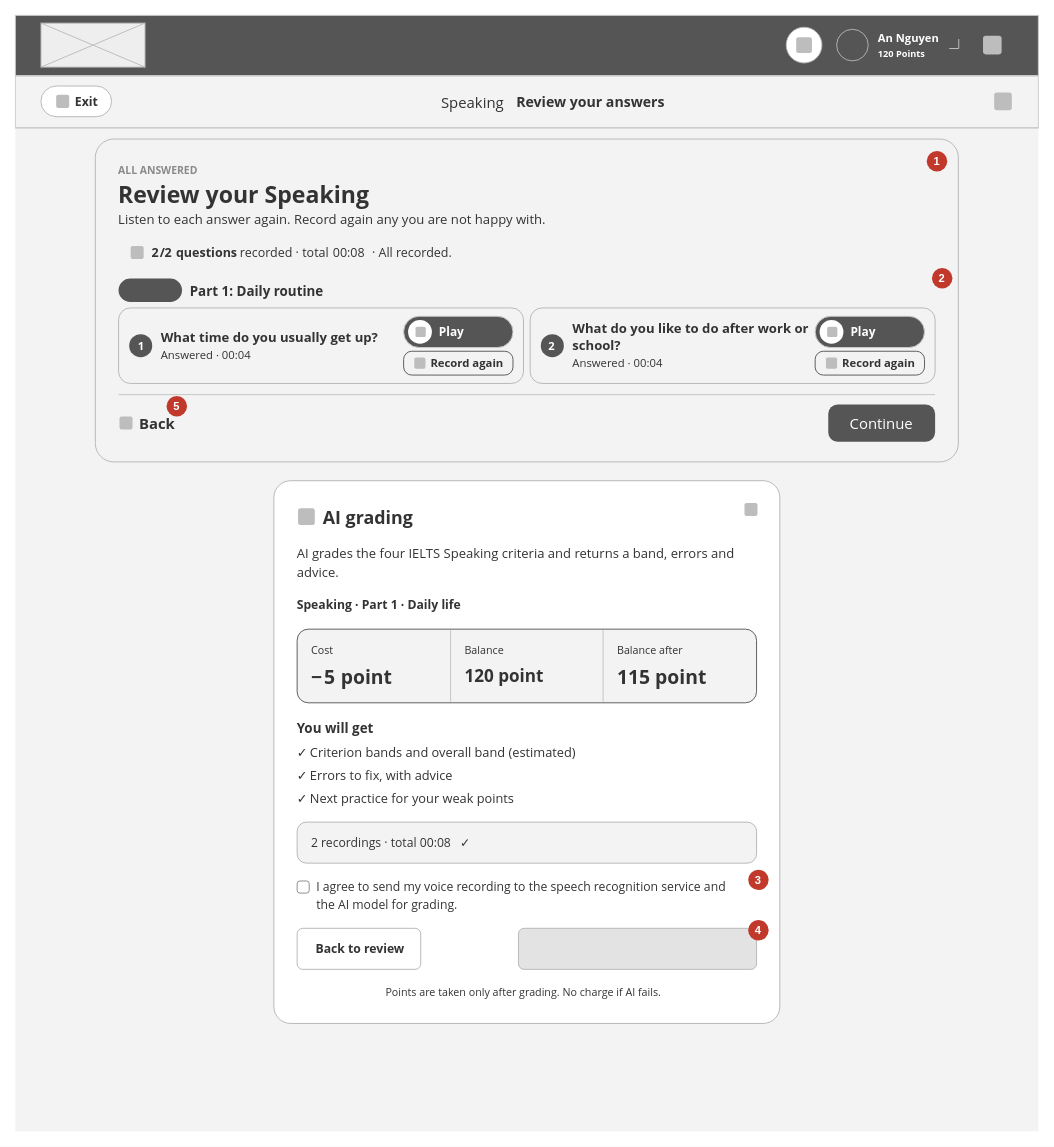
The diagram is 1054 pixels wide and 1147 high, and some of its shapes have lost their labels. The shapes that lost their labels are listed below. From the top down, each one's box as (x1, y1, x2, y2) in pixels, then its label:
(836, 28, 868, 61): AN
(118, 278, 182, 302): PART 1
(518, 927, 757, 969): Grade · 5 points
